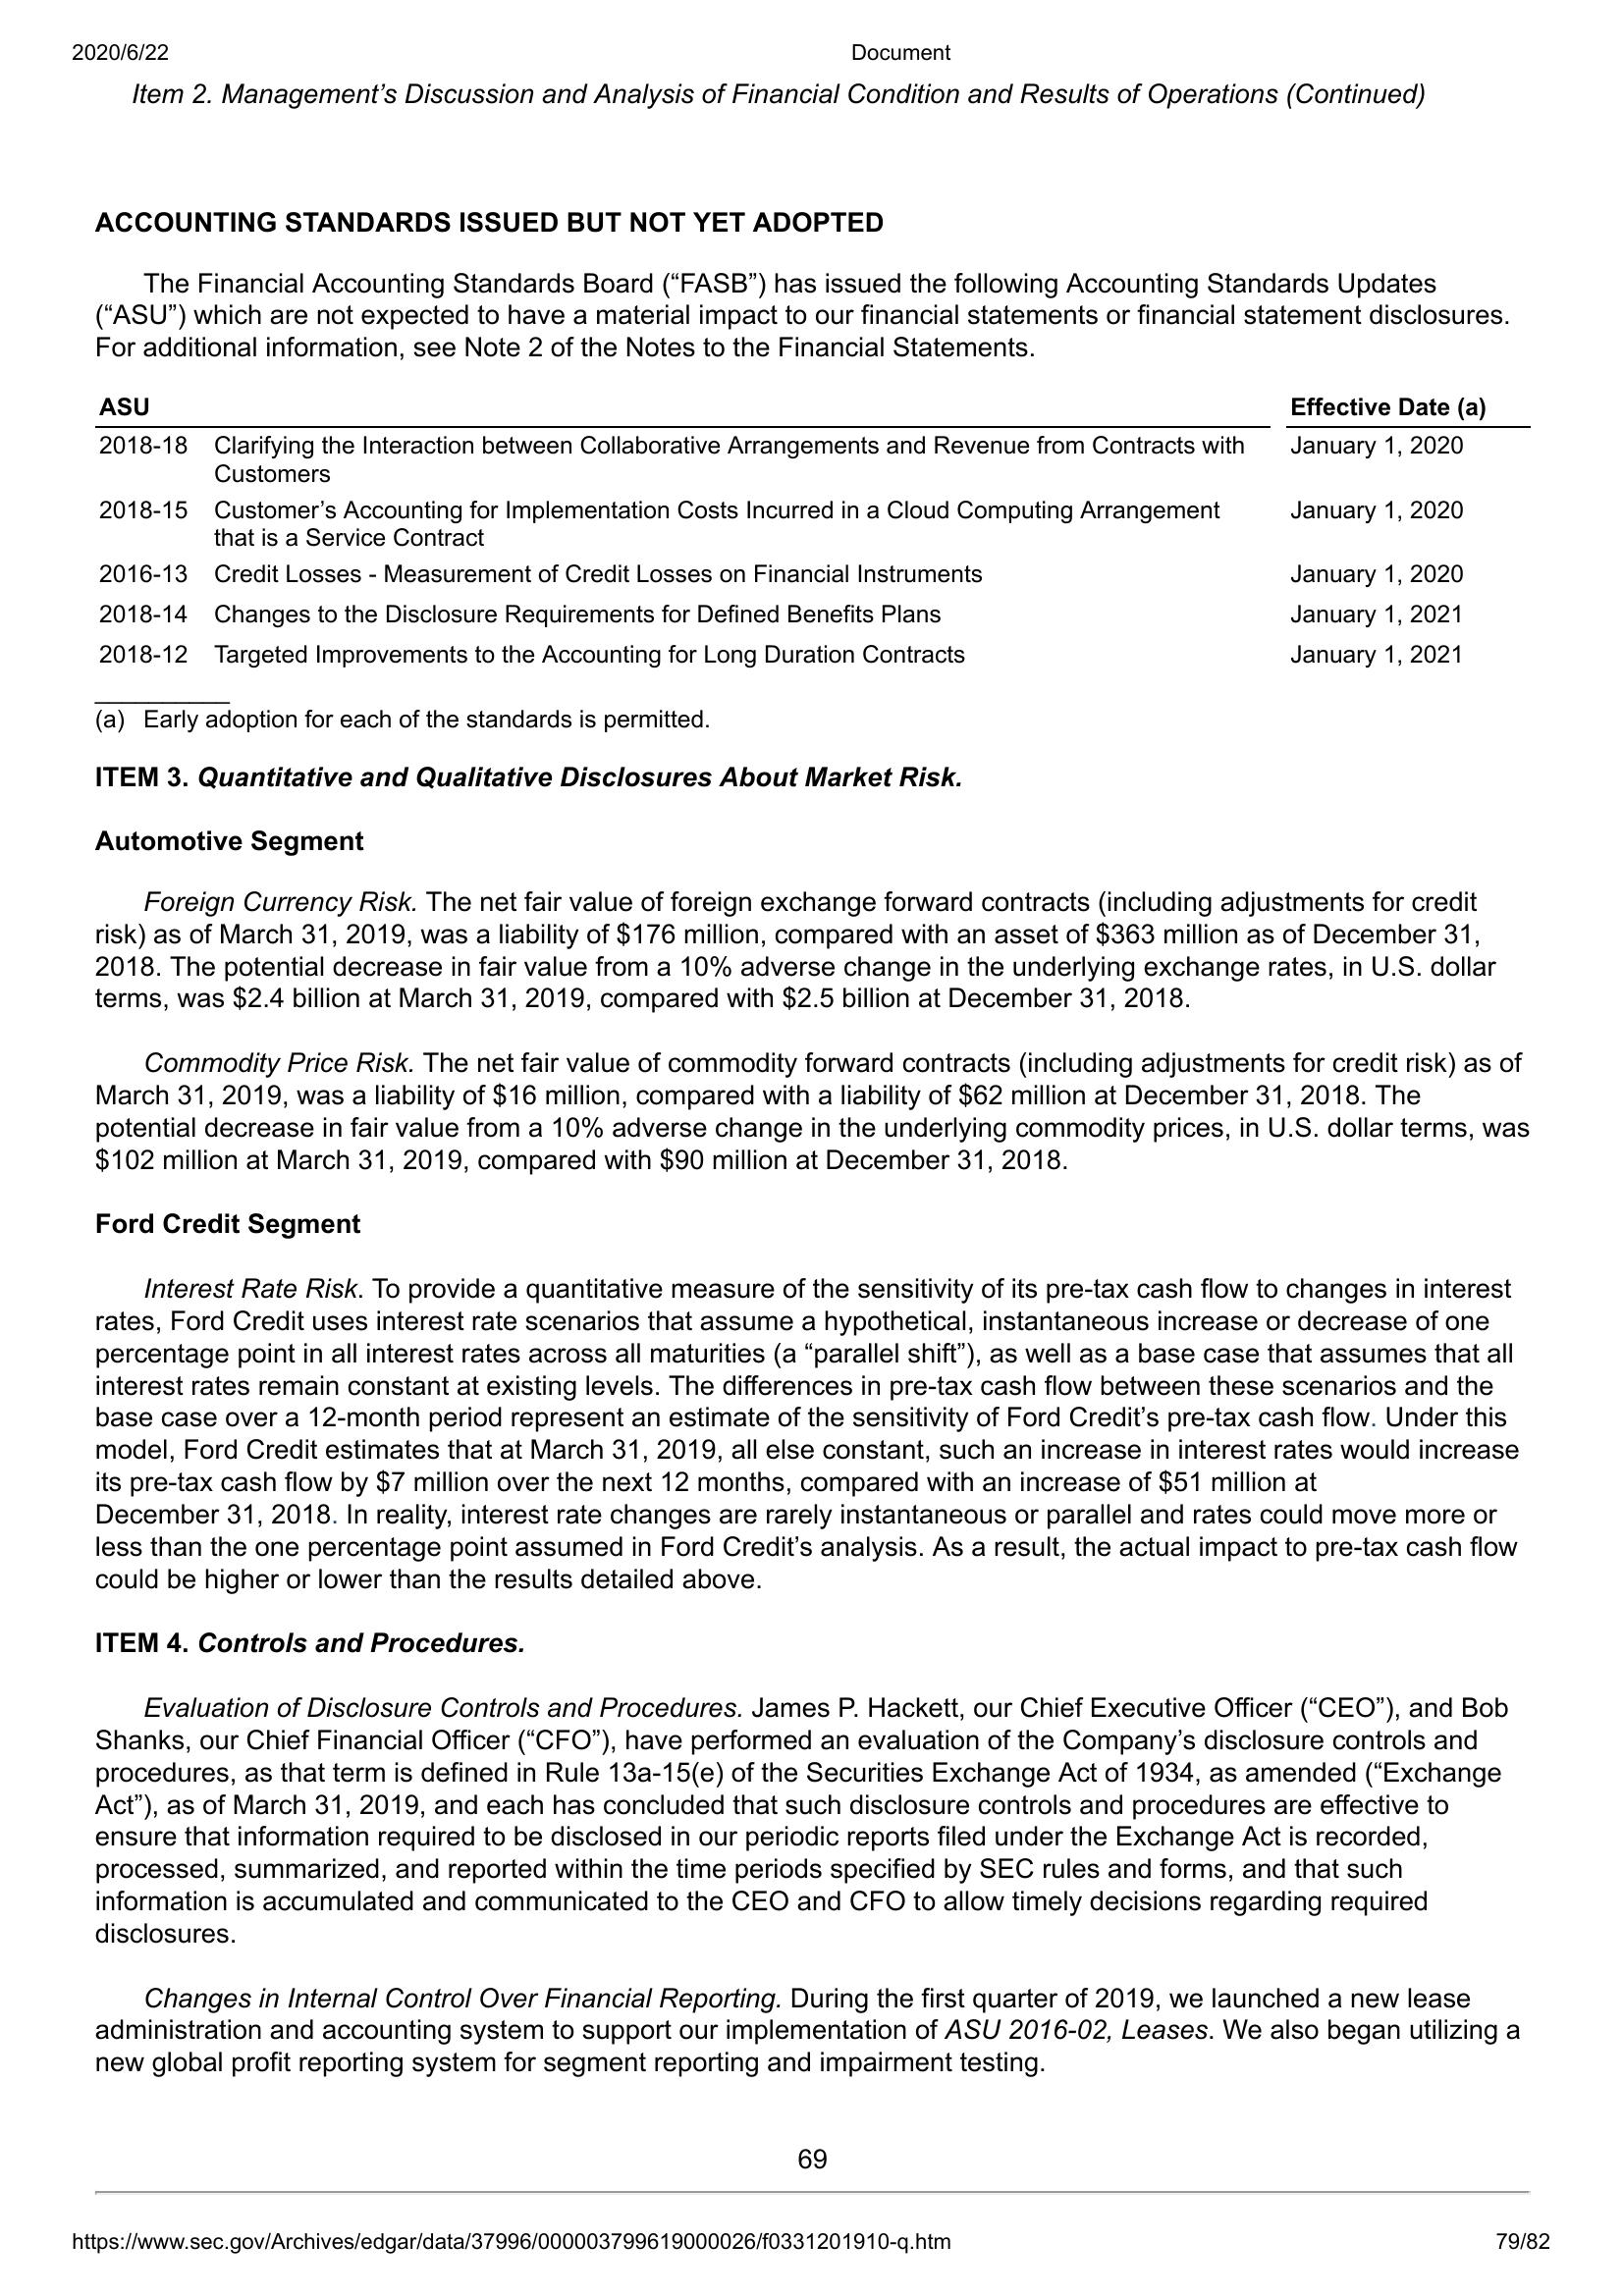table: (90, 393, 1530, 683)
